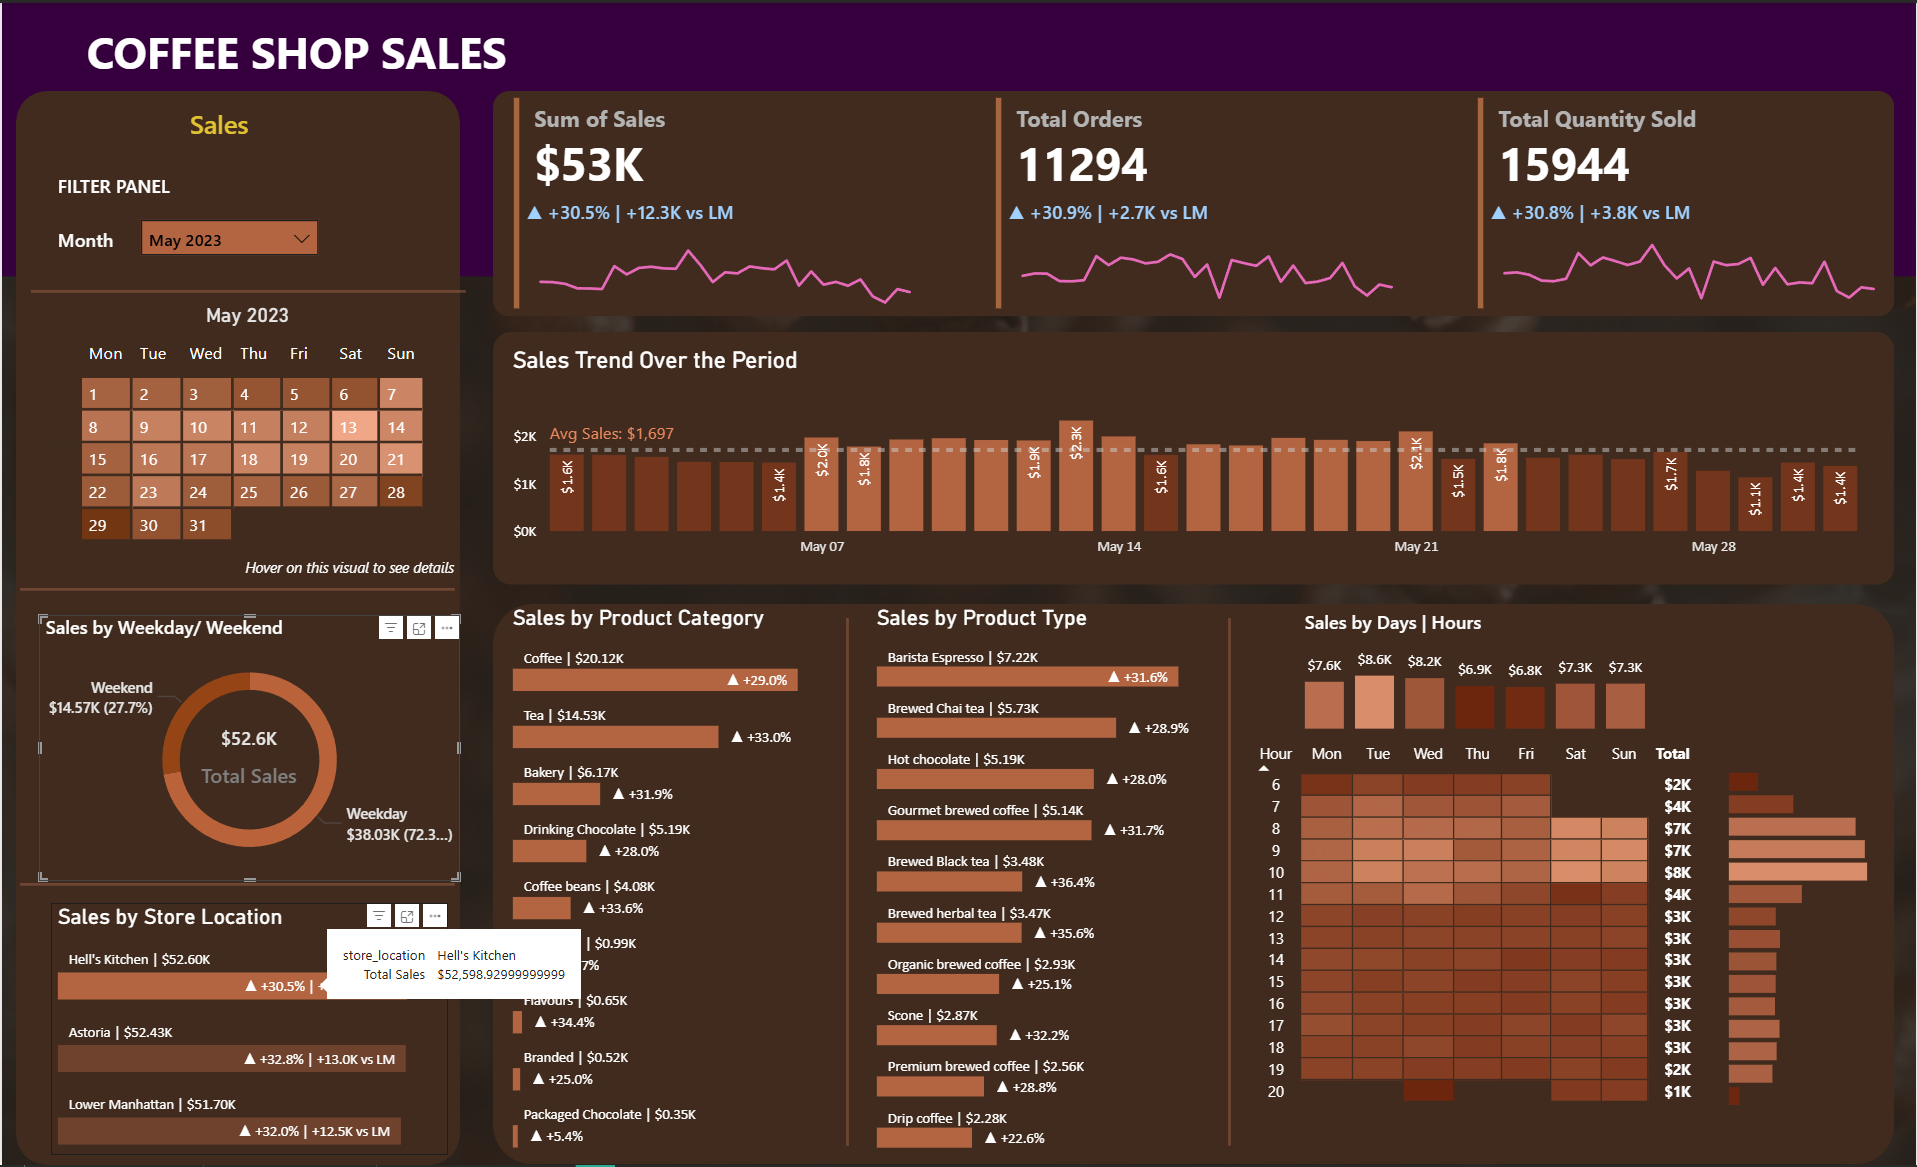

What the dashboard file says about the page in this screenshot:
{"tool":"powerbi","page":{"name":"Coffee Shop Sales Report","canvas":[1400,850],"ordinal":0},"visuals":[{"type":"shape","box":[0,0,1400,200],"z":0},{"type":"shape","box":[10.5,64.4,324.7,785.7],"z":1000},{"type":"shape","box":[358.9,64.7,1025.1,164.9],"z":2000},{"type":"textbox","box":[57.4,8,328.4,56.7],"z":3000},{"type":"cardVisual","fields":{"Data":["Sum(Transactions.Sales)"]},"box":[369.1,64.7,300,164.9],"z":4000,"group":"g1"},{"type":"cardVisual","fields":{"Data":["Transactions.Total Orders"]},"box":[721.8,64.7,300,164.9],"z":4000,"group":"g2"},{"type":"cardVisual","fields":{"Data":["Transactions.Total Quantity Sold"]},"box":[1074.5,64.7,300,164.9],"z":4000,"group":"g3"},{"type":"slicer","fields":{"Values":["Date Table.Month Year"]},"box":[96.5,153.4,139.9,39.7],"z":4000},{"type":"group","id":"g1","title":"Group 1","box":[369.1,64.7,309.5,164.9],"z":5000},{"type":"group","id":"g2","title":"Group 1","box":[721.8,64.7,309.5,164.9],"z":6000},{"type":"lineChart","fields":{"Y":["Transactions.Total Sales"],"Category":["Date Table.Date.Variation.Date Hierarchy.Year","Date Table.Date.Variation.Date Hierarchy.Quarter","Date Table.Date.Variation.Date Hierarchy.Month","Date Table.Date.Variation.Date Hierarchy.Day"]},"box":[378.5,144.6,300,85],"z":6000,"group":"g1"},{"type":"lineChart","fields":{"Category":["Date Table.Date.Variation.Date Hierarchy.Year","Date Table.Date.Variation.Date Hierarchy.Quarter","Date Table.Date.Variation.Date Hierarchy.Month","Date Table.Date.Variation.Date Hierarchy.Day"],"Y":["Transactions.Total Orders"]},"box":[731.2,144.6,300,85],"z":6000,"group":"g2"},{"type":"lineChart","fields":{"Category":["Date Table.Date.Variation.Date Hierarchy.Year","Date Table.Date.Variation.Date Hierarchy.Quarter","Date Table.Date.Variation.Date Hierarchy.Month","Date Table.Date.Variation.Date Hierarchy.Day"],"Y":["Transactions.Total Quantity Sold"]},"box":[1083.9,144.6,300,85],"z":6000,"group":"g3"},{"type":"group","id":"g3","title":"Group 1","box":[1074.5,64.7,309.5,164.9],"z":7000},{"type":"pivotTable","fields":{"Rows":["Date Table.Week Number"],"Columns":["Date Table.Day Name"],"Values":["Min(Date Table.Day Number)"]},"box":[28.3,239,305,190],"z":8000},{"type":"card","fields":{"Values":["Min(Date Table.Month Year)"]},"box":[137.3,211.4,84.3,35.6],"z":9000},{"type":"card","fields":{"Values":["Transactions.Foot Note"]},"box":[166.4,401,176.5,24],"z":10000},{"type":"shape","box":[13.5,417.5,318,22.4],"z":11000},{"type":"shape","box":[21.1,199.8,318.2,22.5],"z":12000},{"type":"donutChart","title":"Sales by Weekday/ Weekend","fields":{"Category":["Date Table.Weekday/ Weekend"],"Y":["Transactions.Total Sales"]},"box":[26.9,447.5,308,194.7],"z":13000},{"type":"card","fields":{"Values":["Transactions.Total Sales"]},"box":[125,523.1,111.2,53.8],"z":14000},{"type":"shape","box":[13.5,633.8,318,22.4],"z":15000},{"type":"clusteredBarChart","title":"Sales by Store Location","fields":{"Category":["Transactions.store_location"],"Y":["Transactions.Placeholder","Transactions.Total Sales"]},"box":[35.6,658.2,290.6,184.5],"z":16000},{"type":"shape","box":[359.2,240.9,1025.1,184.8],"z":17000},{"type":"columnChart","title":"Sales Trend Over the Period","fields":{"Category":["Transactions.transaction_date"],"Y":["Transactions.Total Sales"]},"box":[368.9,250.7,997.4,162.4],"z":18000},{"type":"shape","box":[359.2,440,1025.1,410],"z":19000},{"type":"clusteredBarChart","title":"Sales by Product Category","fields":{"Category":["Transactions.product_category"],"Y":["Transactions.Placeholder","Transactions.Total Sales"]},"box":[368.9,440,249.9,403.3],"z":20000},{"type":"shape","box":[602.4,449.7,32.9,386.1],"z":21000},{"type":"clusteredBarChart","title":"Sales by Product Type","fields":{"Y":["Transactions.Placeholder","Transactions.Total Sales"],"Category":["Transactions.product_type"]},"box":[635.3,440,249.9,403.3],"z":22000},{"type":"shape","box":[881.5,449.7,32.9,386.1],"z":23000},{"type":"pivotTable","fields":{"Rows":["Transactions.Hour"],"Values":["Transactions.Total Sales"],"Columns":["Date Table.Day Name"]},"box":[909.1,536.5,369.6,308.3],"z":24000},{"type":"barChart","fields":{"Category":["Transactions.Hour"],"Y":["Transactions.Total Sales"]},"box":[1257.8,550,116.7,261.1],"z":25000},{"type":"columnChart","title":"Sales by Days | Hours","fields":{"Y":["Transactions.Total Sales"],"Category":["Date Table.Day Name"]},"box":[948,443.7,259.6,92.8],"z":26000},{"type":"textbox","box":[35.9,159.4,60.6,27.7],"z":27000},{"type":"textbox","box":[35.9,119.7,96.5,27.7],"z":28000},{"type":"textbox","box":[132.4,71.1,77.8,38.9],"z":29000}]}

Visuals, with their boxes in screenshot pixels (x1, y1, x2, y2), scaled from the page's 1400x850 canvas onto the 1917x1167 screenshot:
shape: box(0, 0, 1916, 275)
shape: box(14, 88, 459, 1166)
shape: box(491, 89, 1895, 315)
textbox: box(79, 11, 528, 89)
cardVisual - Sum(Transactions.Sales): box(505, 89, 916, 315)
cardVisual - Transactions.Total Orders: box(988, 89, 1399, 315)
cardVisual - Transactions.Total Quantity Sold: box(1471, 89, 1882, 315)
slicer - Date Table.Month Year: box(132, 211, 324, 265)
"Group 1" group: box(505, 89, 929, 315)
"Group 1" group: box(988, 89, 1412, 315)
lineChart - Transactions.Total Sales x Date Table.Date.Variation.Date Hierarchy.Year: box(518, 199, 929, 315)
lineChart - Date Table.Date.Variation.Date Hierarchy.Year x Date Table.Date.Variation.Date Hierarchy.Quarter: box(1001, 199, 1412, 315)
lineChart - Date Table.Date.Variation.Date Hierarchy.Year x Date Table.Date.Variation.Date Hierarchy.Quarter: box(1484, 199, 1895, 315)
"Group 1" group: box(1471, 89, 1895, 315)
pivotTable - Date Table.Week Number x Date Table.Day Name: box(39, 328, 456, 589)
card - Min(Date Table.Month Year): box(188, 290, 303, 339)
card - Transactions.Foot Note: box(228, 551, 470, 584)
shape: box(18, 573, 454, 604)
shape: box(29, 274, 465, 305)
"Sales by Weekday/ Weekend" donutChart: box(37, 614, 459, 882)
card - Transactions.Total Sales: box(171, 718, 323, 792)
shape: box(18, 870, 454, 901)
"Sales by Store Location" clusteredBarChart: box(49, 904, 447, 1157)
shape: box(492, 331, 1896, 584)
"Sales Trend Over the Period" columnChart: box(505, 344, 1871, 567)
shape: box(492, 604, 1896, 1166)
"Sales by Product Category" clusteredBarChart: box(505, 604, 847, 1158)
shape: box(825, 617, 870, 1148)
"Sales by Product Type" clusteredBarChart: box(870, 604, 1212, 1158)
shape: box(1207, 617, 1252, 1148)
pivotTable - Transactions.Hour x Transactions.Total Sales: box(1245, 737, 1751, 1160)
barChart - Transactions.Hour x Transactions.Total Sales: box(1722, 755, 1882, 1114)
"Sales by Days | Hours" columnChart: box(1298, 609, 1654, 737)
textbox: box(49, 219, 132, 257)
textbox: box(49, 164, 181, 202)
textbox: box(181, 98, 288, 151)
